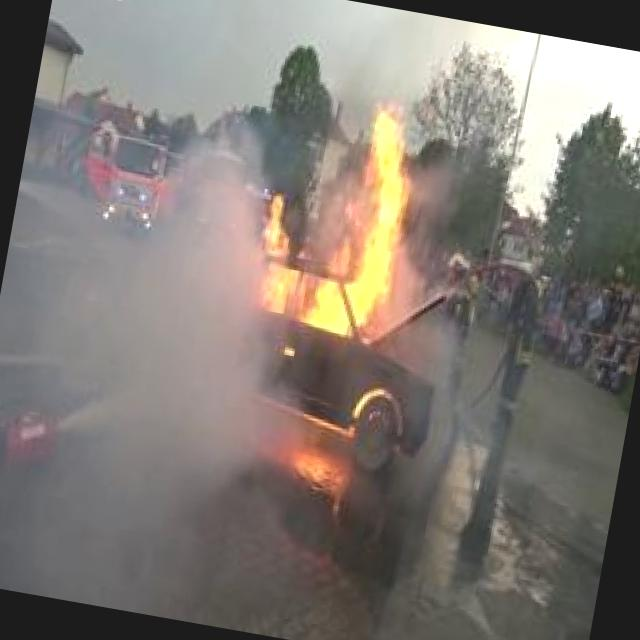fire: (196, 86, 482, 489)
